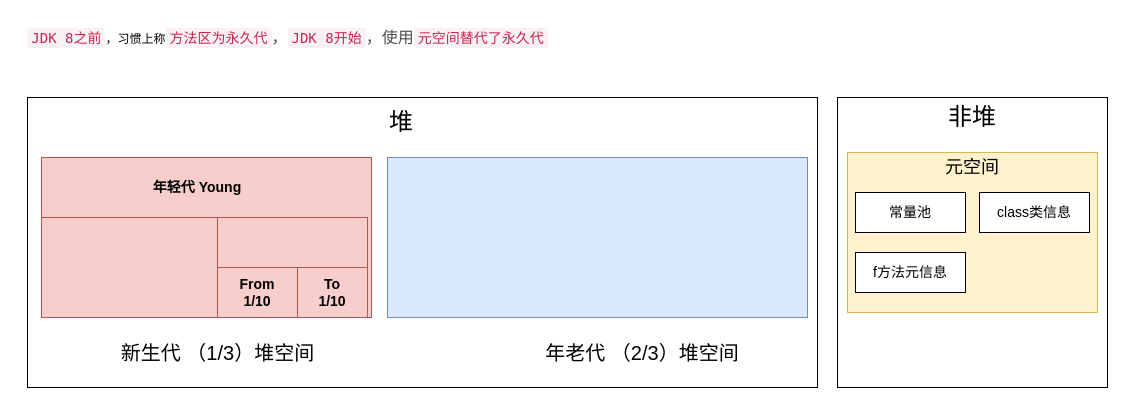
The diagram is 1125 pixels wide and 405 high, and some of its shapes have lost their labels. The centre of each missing label's shape, as x and y in pixels:
"Eden 8/10" goes at point (129, 267).
"Survivor" goes at point (292, 242).
"年老代 Old" goes at point (597, 237).
